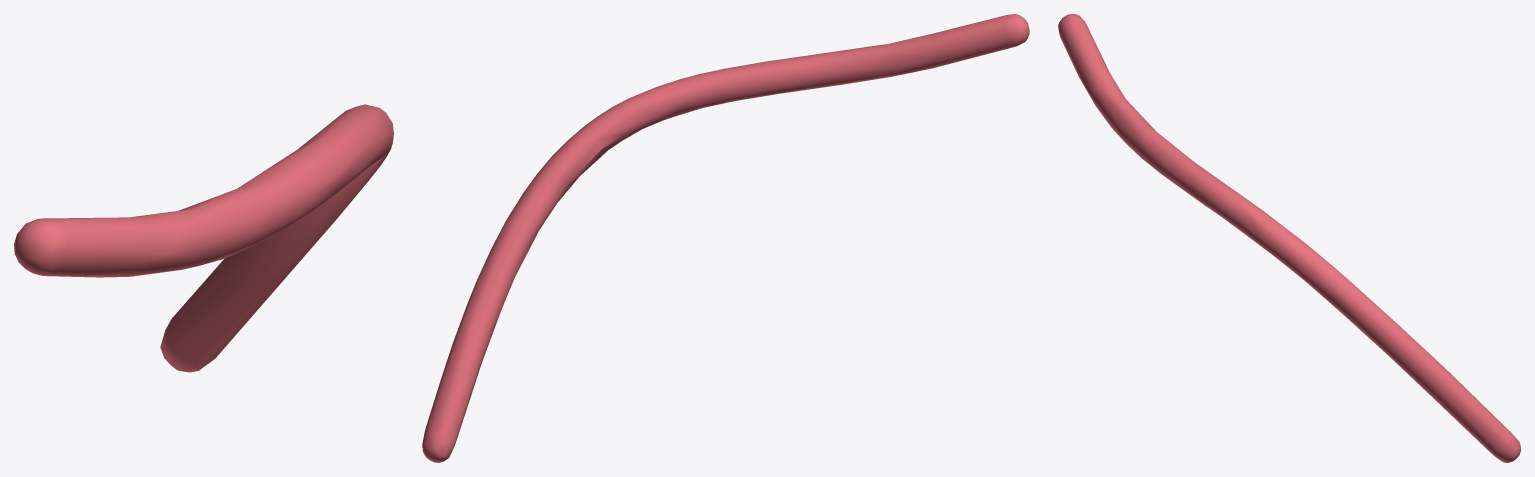
The model's file is fma69495_fj2067.glb.
The picture shows the model from 3 angles, left to right: view 1: azimuth 30°, elevation 25°; view 2: azimuth 150°, elevation 25°; view 3: azimuth 270°, elevation 25°; orthographic projection. The views are drawn at different scales.
Parts seen in each view (by area): view 1: FMA69495_FJ2067; view 2: FMA69495_FJ2067; view 3: FMA69495_FJ2067.
Boxes of the visible parts, x1,y1,x2,y2 form: FMA69495_FJ2067: (14, 104, 393, 372); FMA69495_FJ2067: (422, 14, 1029, 462); FMA69495_FJ2067: (1058, 14, 1520, 462).
Size of the model in its own units: 0.0304 by 0.0277 by 0.0382.
